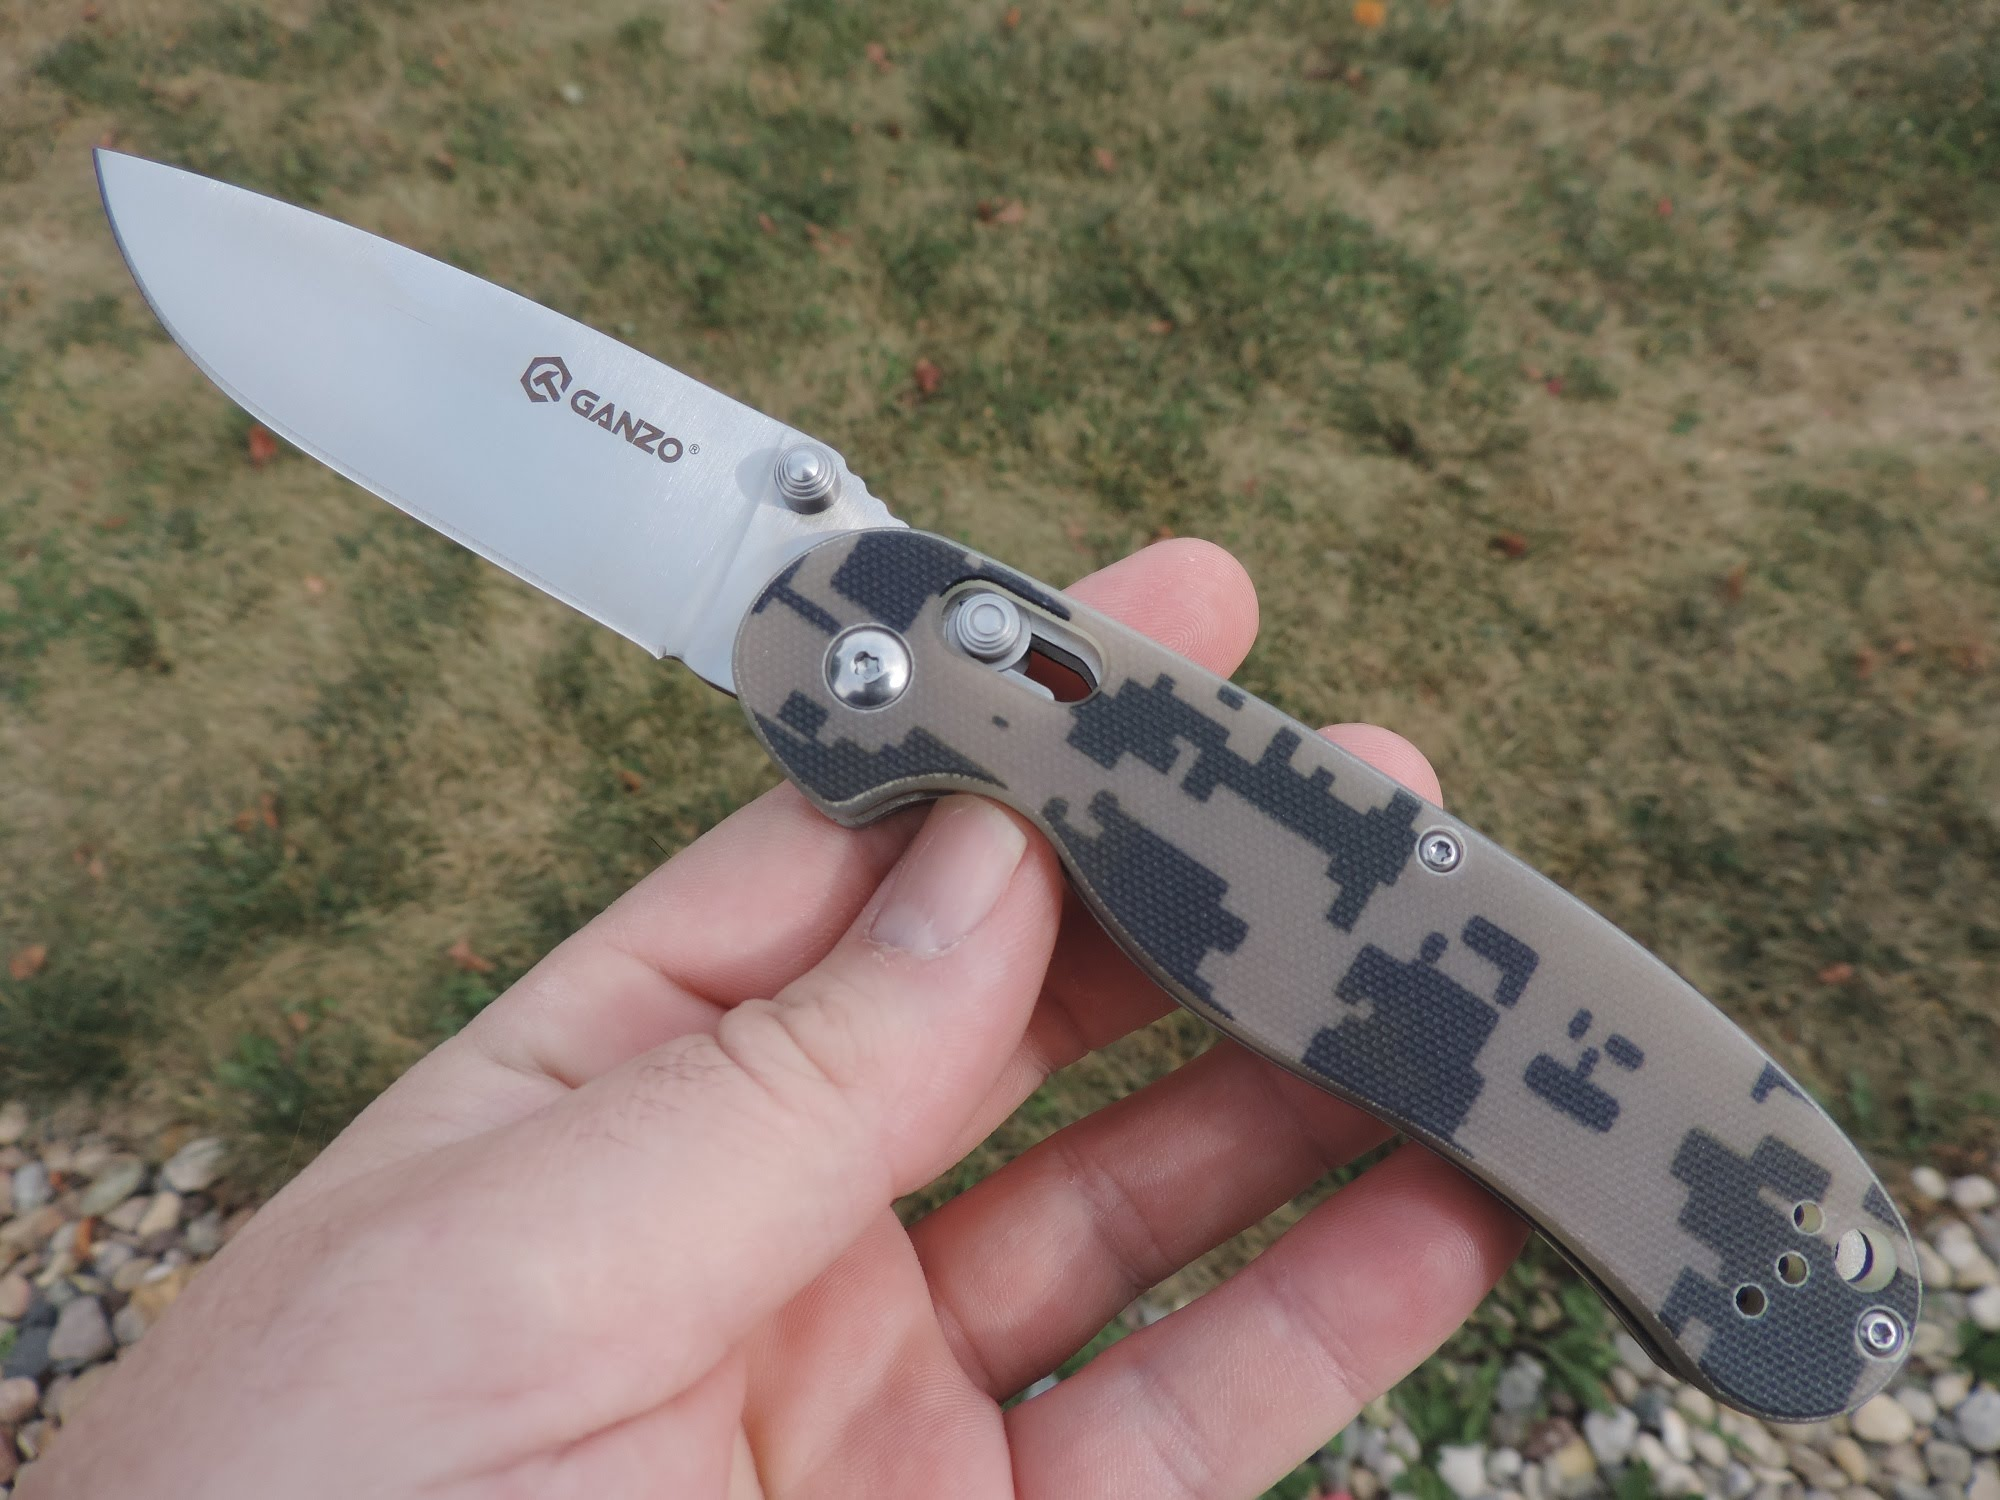knife: (68, 95, 1310, 1060)
